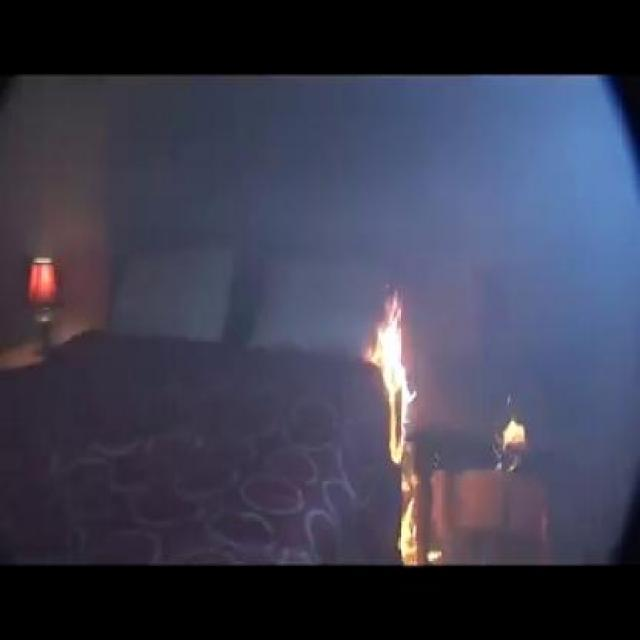fire: (329, 271, 506, 567)
